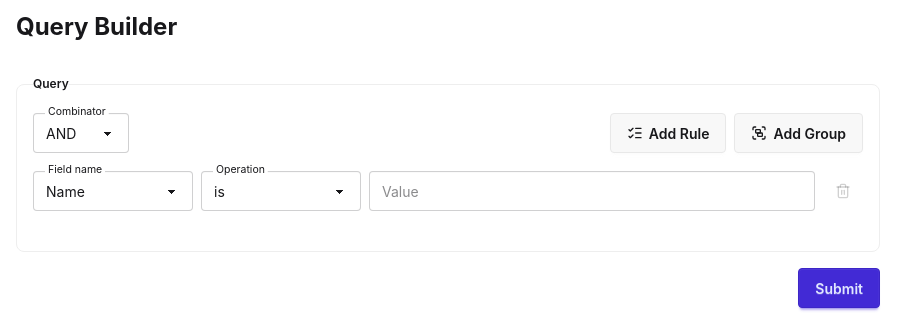
it: rule fields › amount renders its own widget
The image size is (897, 328).
Step 1. Select "Amount" in the dropdown labelled "Field name" → (113, 191), box [33,171,193,211]
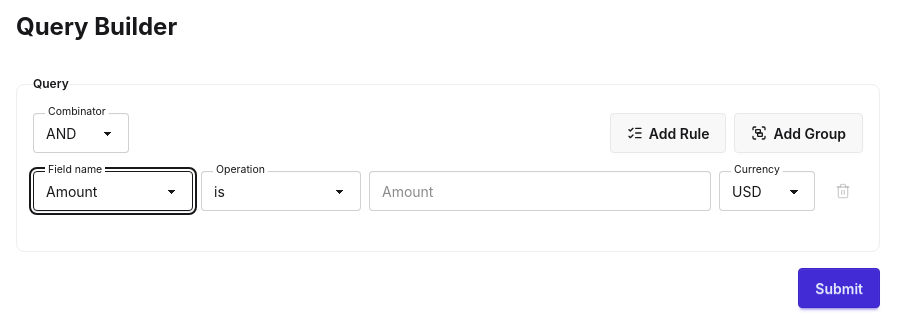
expect the dropdown labelled "Currency" is shown: met, box [719,171,815,211]
expect the number field labelled "Amount" is shown: met, box [369,171,711,211]
